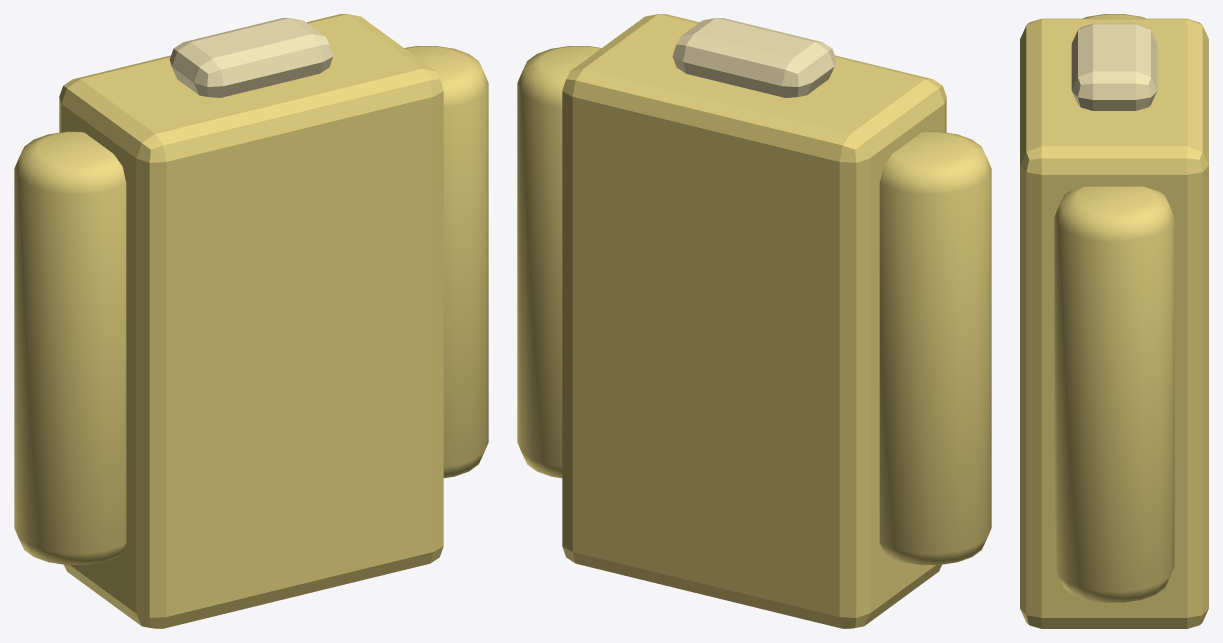
Rendered from VM-DAM-FS19.glb.
The picture shows the model from 3 angles, left to right: view 1: azimuth 30°, elevation 25°; view 2: azimuth 150°, elevation 25°; view 3: azimuth 270°, elevation 25°; orthographic projection. The views are drawn at different scales.
Parts seen in each view (by area): view 1: Prenda Mujer Corto Manga; view 2: Prenda Mujer Corto Manga; view 3: Prenda Mujer Corto Manga.
Part boxes in pixels (x1,y1,x2,y2): Prenda Mujer Corto Manga: (14,14,488,628); Prenda Mujer Corto Manga: (517,14,991,628); Prenda Mujer Corto Manga: (1020,14,1208,628).
Size of the model in its own units: 0.6337 by 0.7049 by 0.2332.
